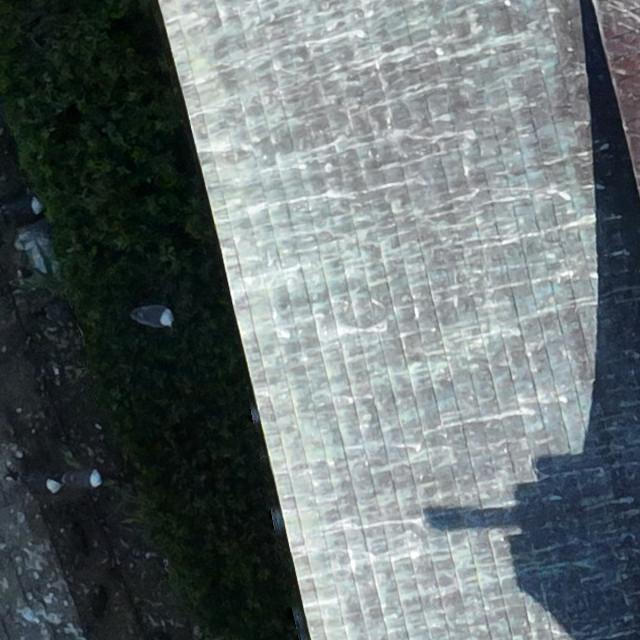umineko: (54, 470, 100, 489), (134, 304, 172, 325), (3, 198, 41, 216)
